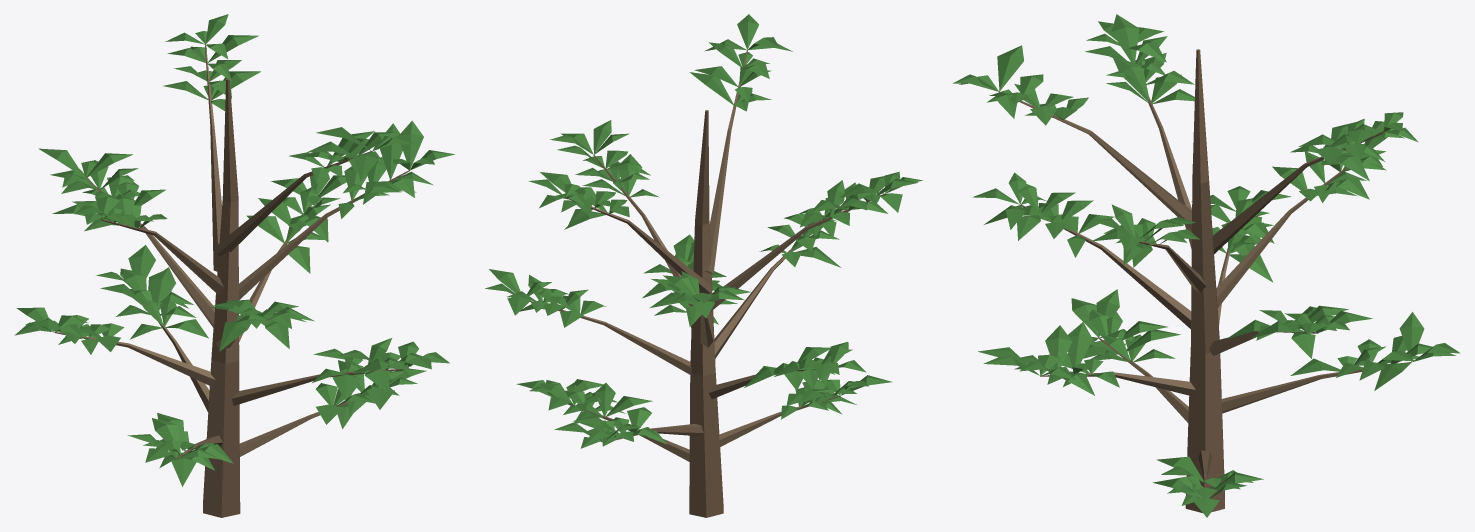
The model's file is coast_oak_lod1.glb.
3 renders of one model, left to right at view 1: azimuth 30°, elevation 25°; view 2: azimuth 150°, elevation 25°; view 3: azimuth 270°, elevation 25°, orthographic. The views are drawn at different scales.
Parts seen in each view (by area): view 1: coast_oak; view 2: coast_oak; view 3: coast_oak.
Boxes of the visible parts, x1=… form: coast_oak: x1=14, y1=14, x2=454, y2=517; coast_oak: x1=485, y1=14, x2=923, y2=517; coast_oak: x1=953, y1=14, x2=1460, y2=517.
Size of the model in its own units: 4.05 by 4.28 by 4.25.
